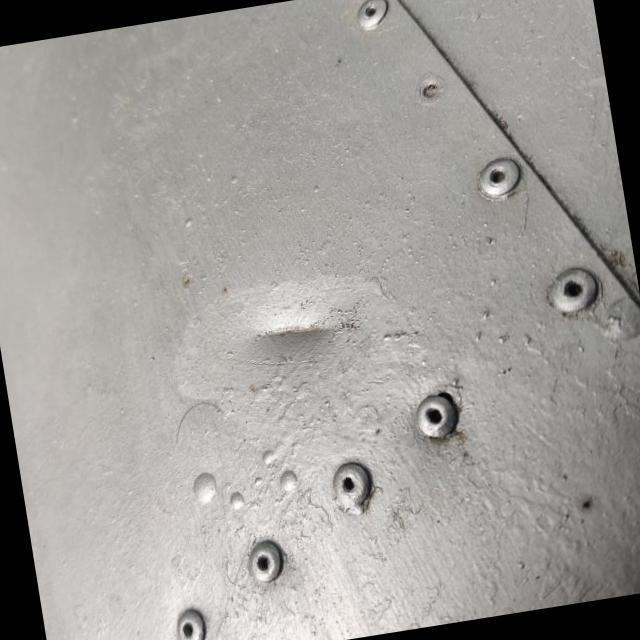Dent: (208, 220, 397, 413)
